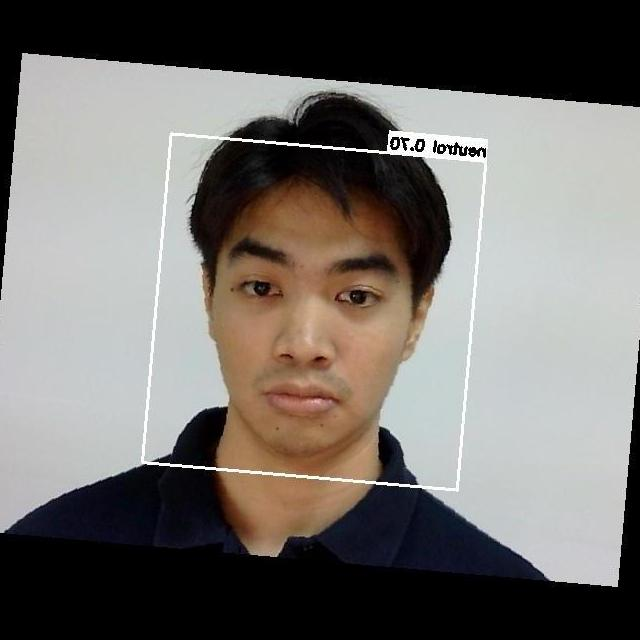Fear: (187, 209, 422, 439)
